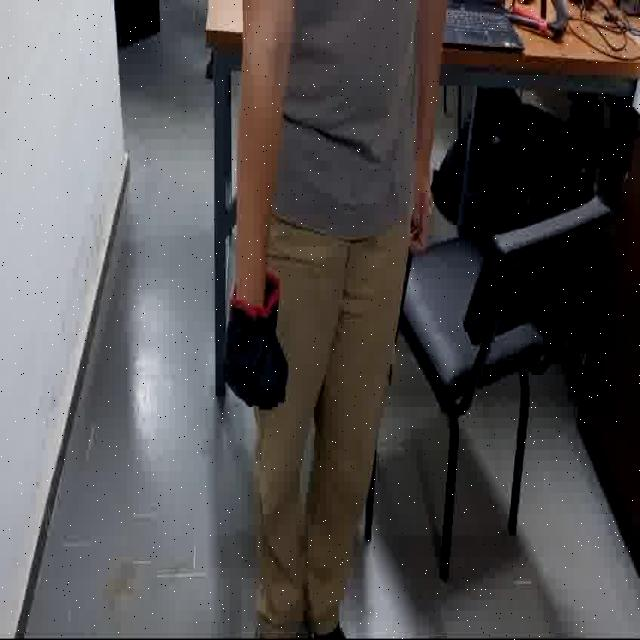Gloves: (222, 270, 290, 408)
